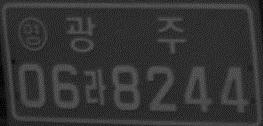0: (17, 63, 47, 109)
2: (145, 64, 178, 113)
4: (182, 66, 213, 112), (219, 67, 249, 113)
6: (50, 62, 81, 110)
8: (110, 64, 141, 111)
광주_D: (64, 16, 186, 53)
라: (82, 67, 106, 106)
영: (16, 16, 48, 52)
